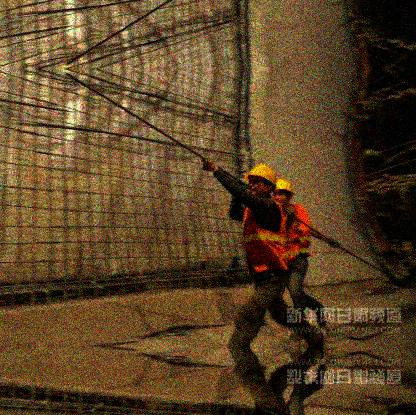helmet: (247, 164, 276, 197), (273, 180, 294, 206)
